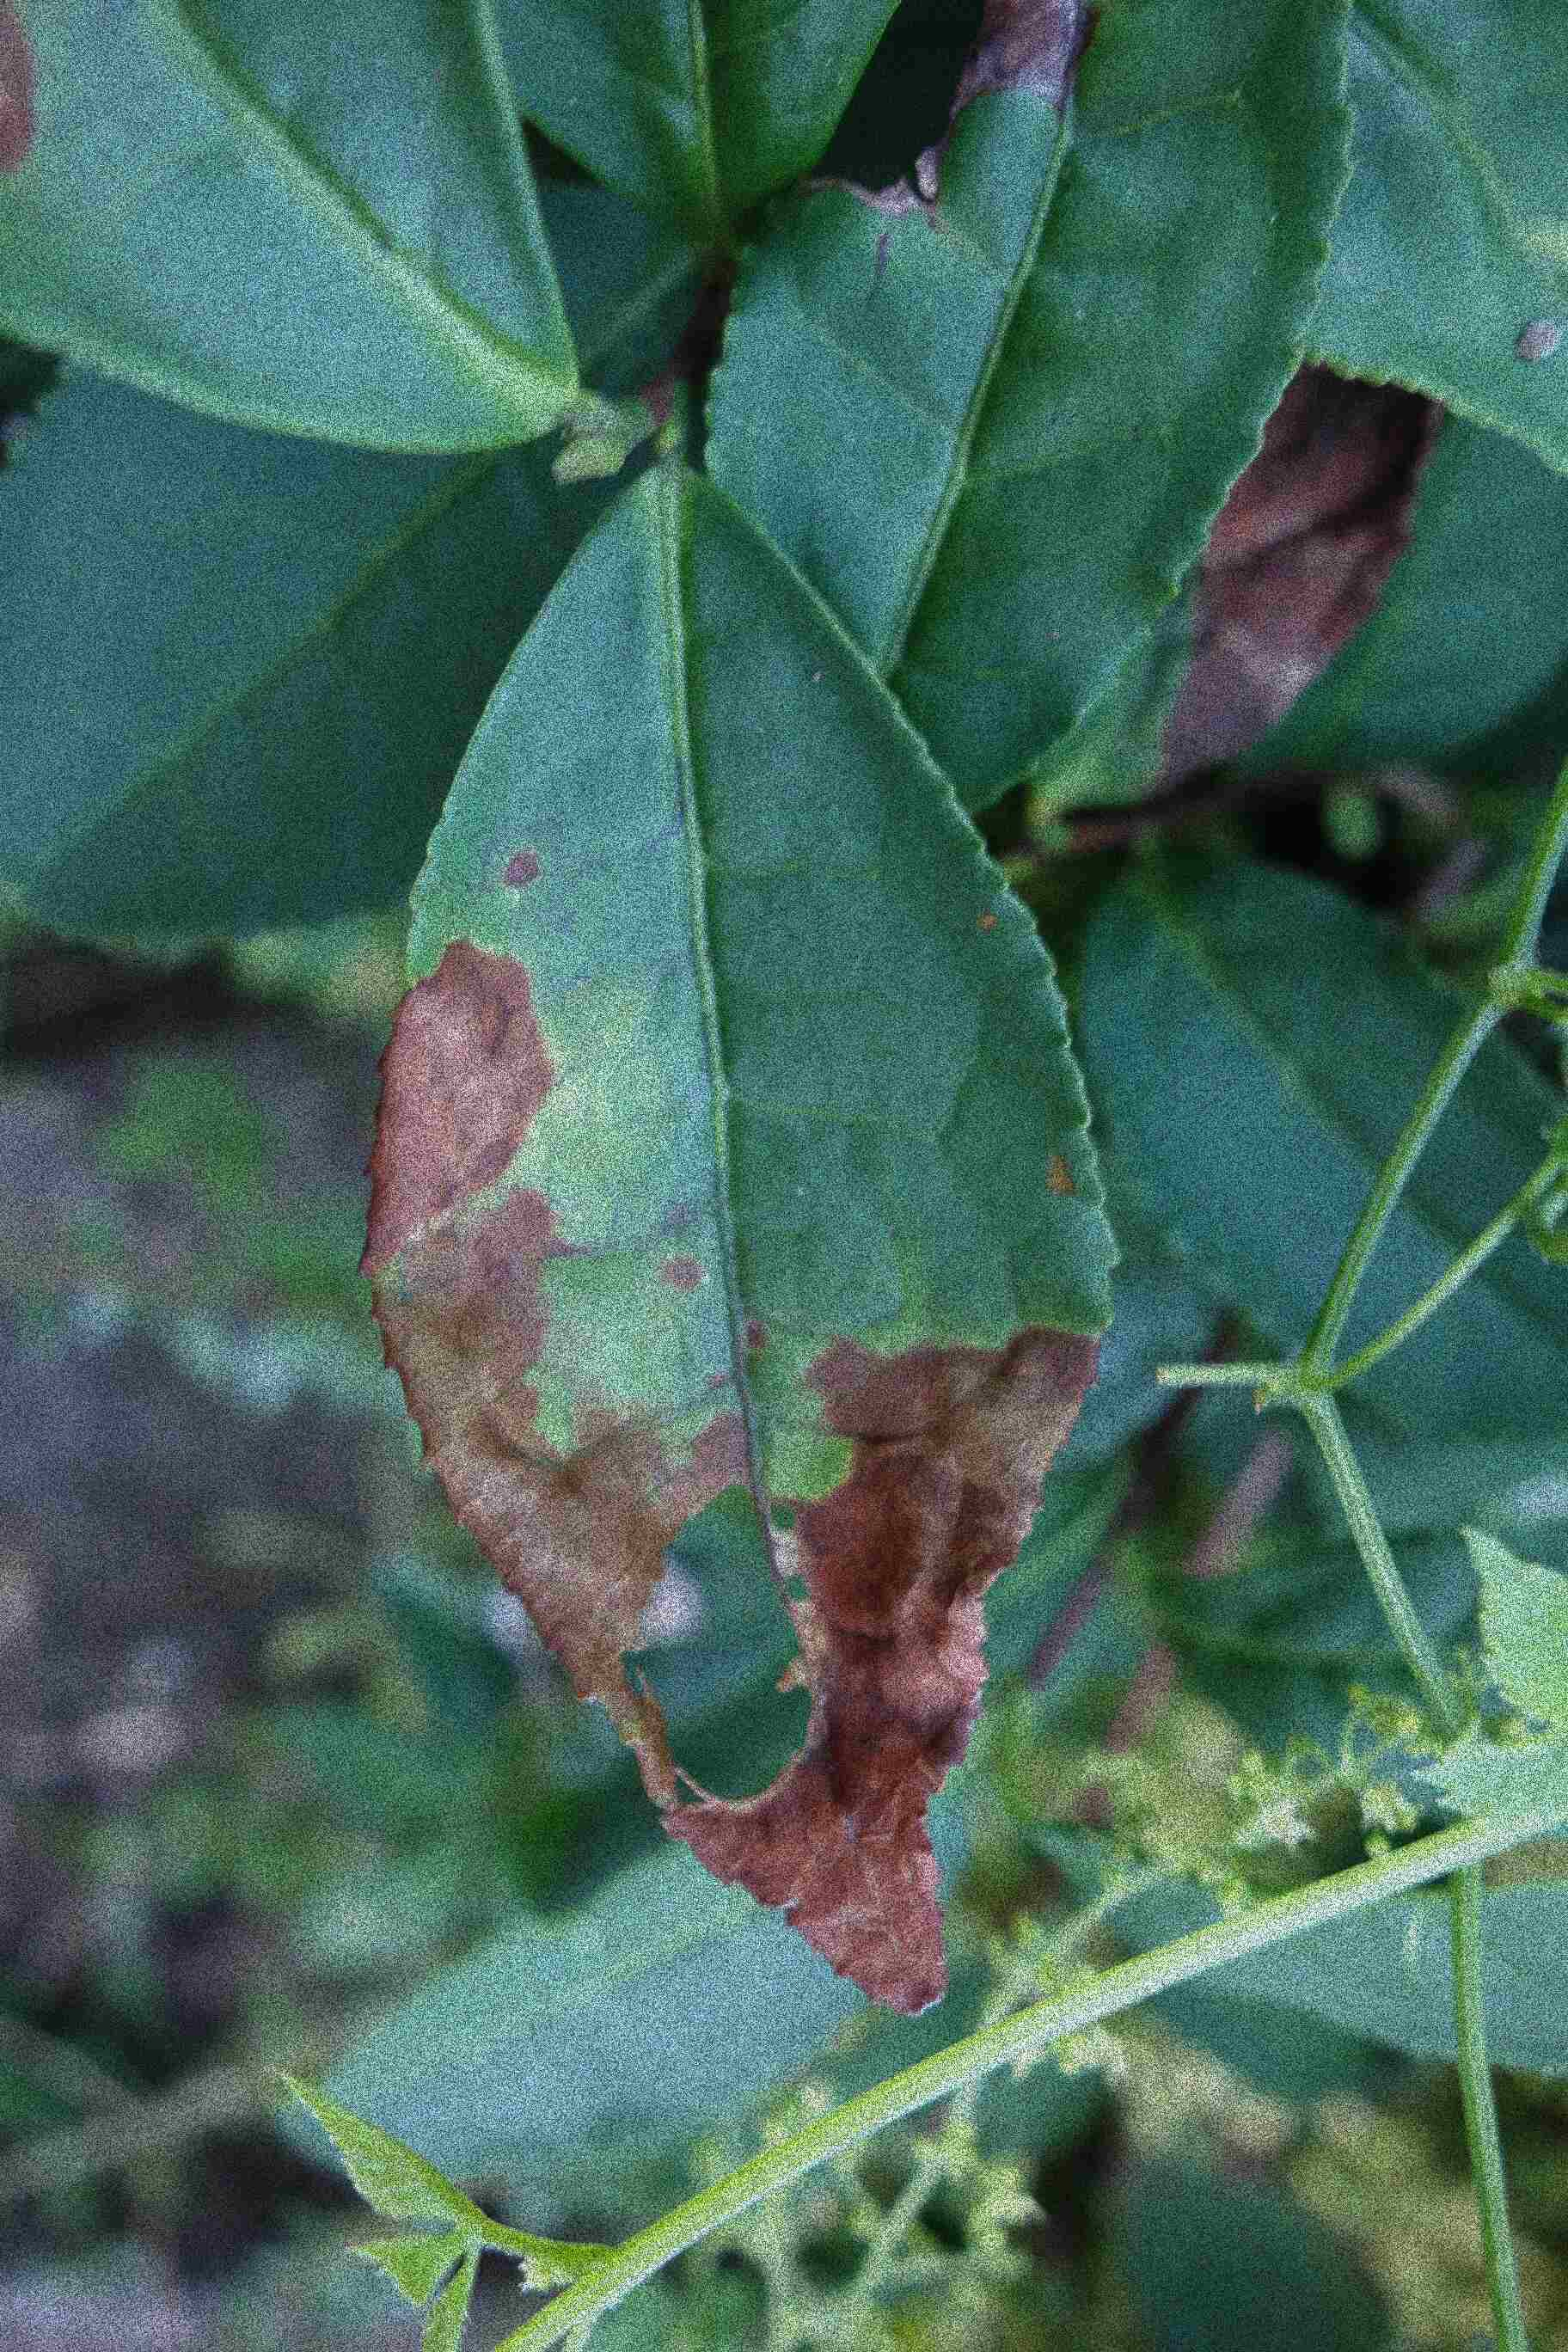tanju_high: (357, 450, 1127, 2002)
